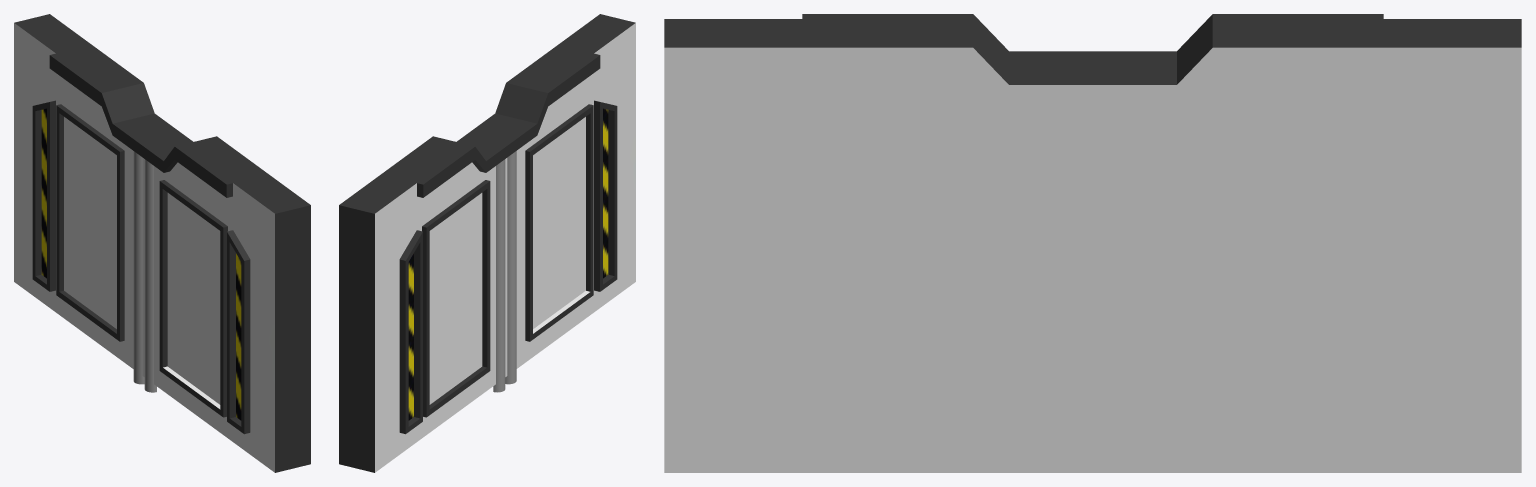
File: F_DoorDown.fbx
3 views of the same model, side by side, from view 1: azimuth 30°, elevation 25°; view 2: azimuth 150°, elevation 25°; view 3: azimuth 270°, elevation 25° (orthographic). The views are drawn at different scales.
Parts seen in each view (by area): view 1: F_DoorDown_01; view 2: F_DoorDown_01; view 3: F_DoorDown_01.
Part boxes in pixels (bbox=[...]): F_DoorDown_01: bbox=[14, 14, 310, 472]; F_DoorDown_01: bbox=[339, 14, 635, 472]; F_DoorDown_01: bbox=[664, 14, 1521, 472].
Bounding box in the file's own units: 22.18 × 134 × 238.
1 material, 1 textured.
